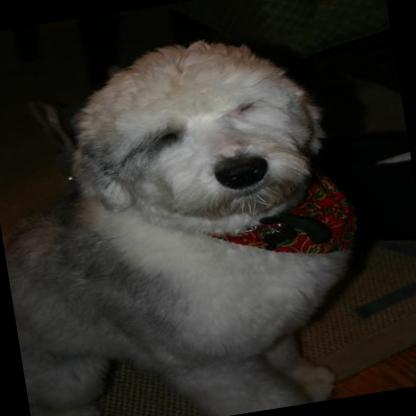Old_English_sheepdog: (0, 13, 386, 416)
